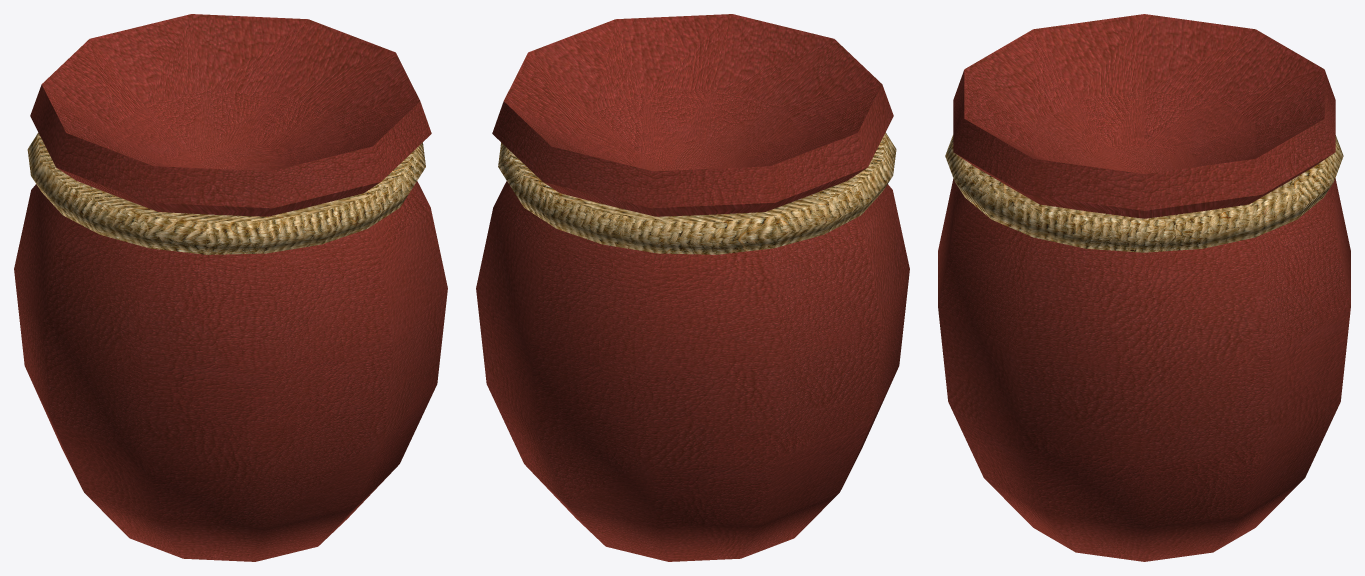
File: redBag 1.fbx
The picture shows the model from 3 angles, left to right: view 1: azimuth 30°, elevation 25°; view 2: azimuth 150°, elevation 25°; view 3: azimuth 270°, elevation 25°; orthographic projection.
Parts seen in each view (by area): view 1: polySurface55; view 2: polySurface55; view 3: polySurface55.
Boxes of the visible parts, bbox=[...] form: polySurface55: bbox=[14, 14, 447, 561]; polySurface55: bbox=[476, 14, 909, 561]; polySurface55: bbox=[938, 14, 1350, 561].
Size of the model in its own units: 1.77 by 1.88 by 1.68.
2 materials, 2 textured.
